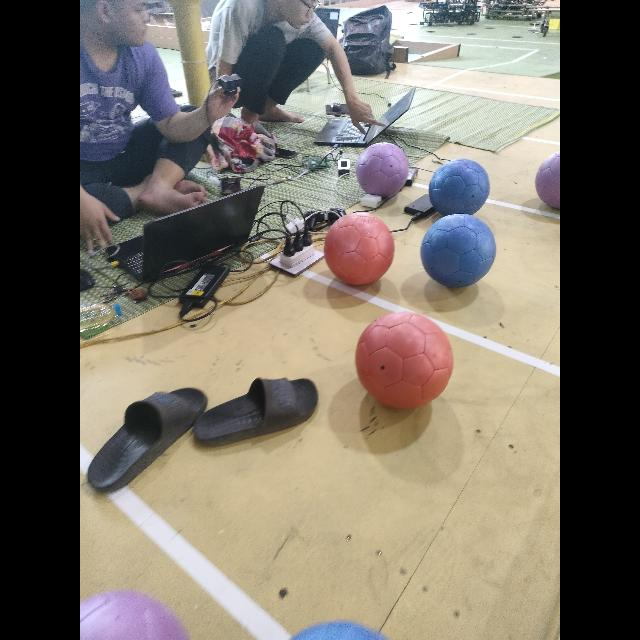B: (420, 214, 496, 286), (428, 159, 489, 215), (290, 621, 388, 639)
P: (80, 590, 190, 640), (356, 144, 408, 196), (535, 152, 559, 208)
R: (356, 312, 452, 408), (324, 213, 394, 285)
